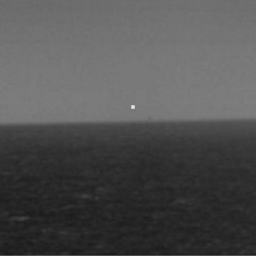Target: (129, 103, 136, 110)
